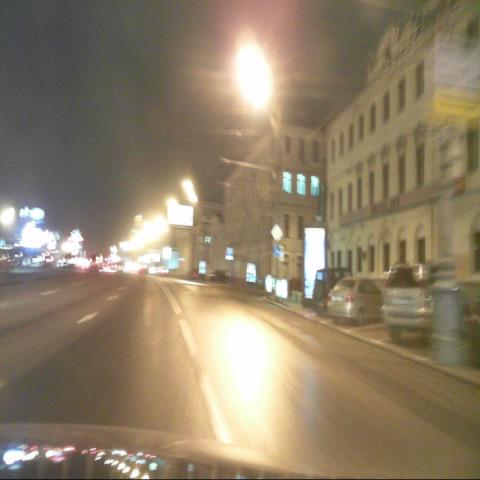2_1: (271, 222, 282, 243)
